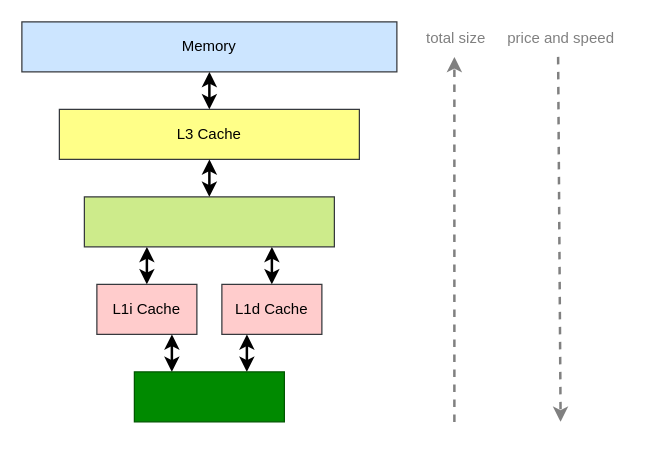
Some shapes in this 646 by 455 pixel diagram are drawn without their labels. Each missing label, with the box of its shape:
CPU: (133, 371, 284, 422)
L2 Cache: (83, 196, 334, 247)
